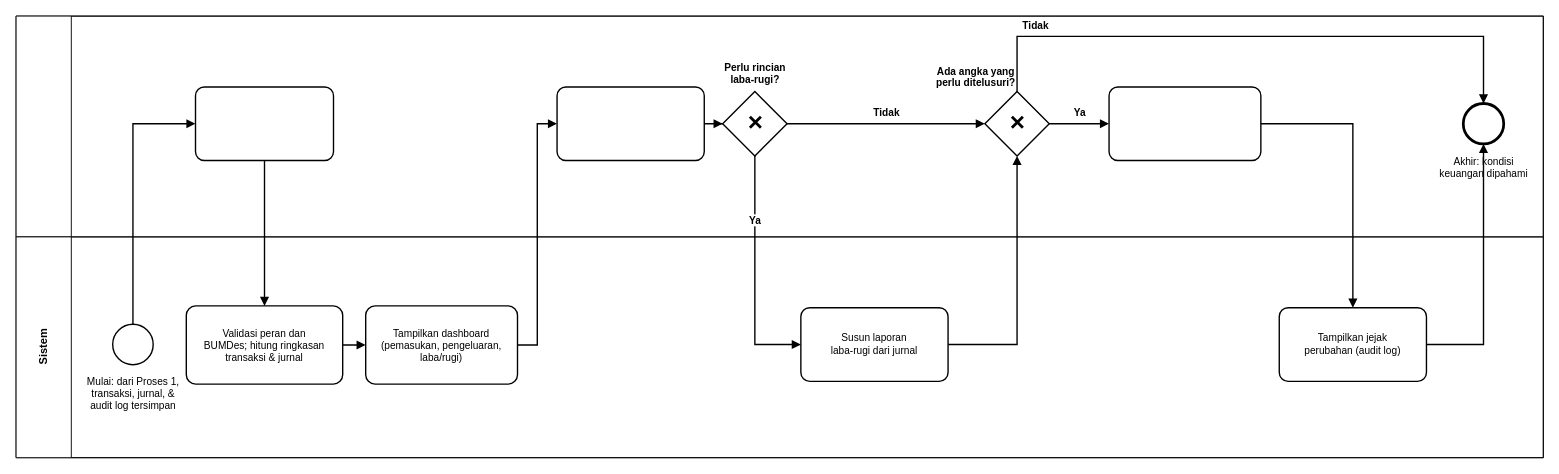
This 1559x474 diagram has some shape labels left out. Here are the shapes that lost their labels. From the top down, the box of each, then its label:
(194, 86, 334, 161): Login dan buka dashboard
(556, 86, 705, 161): Tinjau ringkasan; pilih unit usaha dan periode
(15, 15, 1543, 237): Pemantau (Pengelola, Direktur, Pemerintah Desa)
(1108, 86, 1261, 161): Buka audit log dan saring (Pengelola & Direktur)
